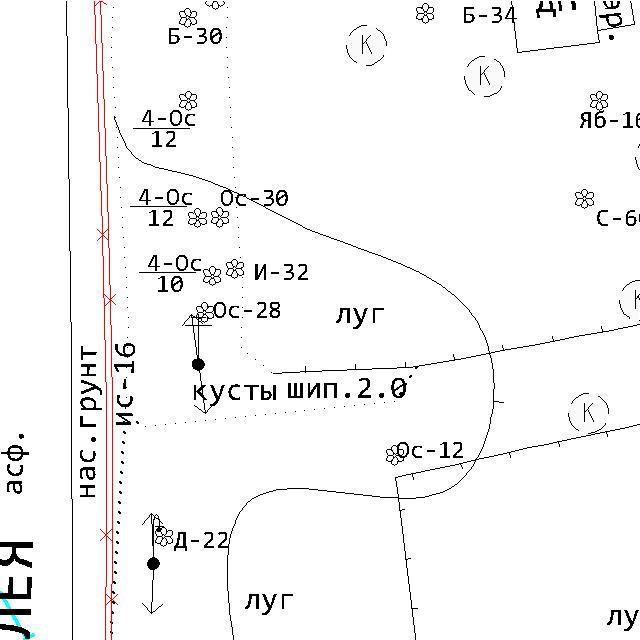asphalt: (0, 432, 30, 498)
bushes: (462, 54, 507, 99), (345, 23, 389, 68), (566, 391, 610, 435), (414, 1, 436, 25), (384, 444, 406, 467), (574, 187, 596, 210), (153, 525, 175, 547), (588, 90, 610, 112), (187, 206, 208, 229), (202, 265, 223, 287), (178, 6, 198, 29), (210, 206, 230, 229), (225, 258, 245, 280), (179, 90, 199, 111), (196, 301, 214, 324)
